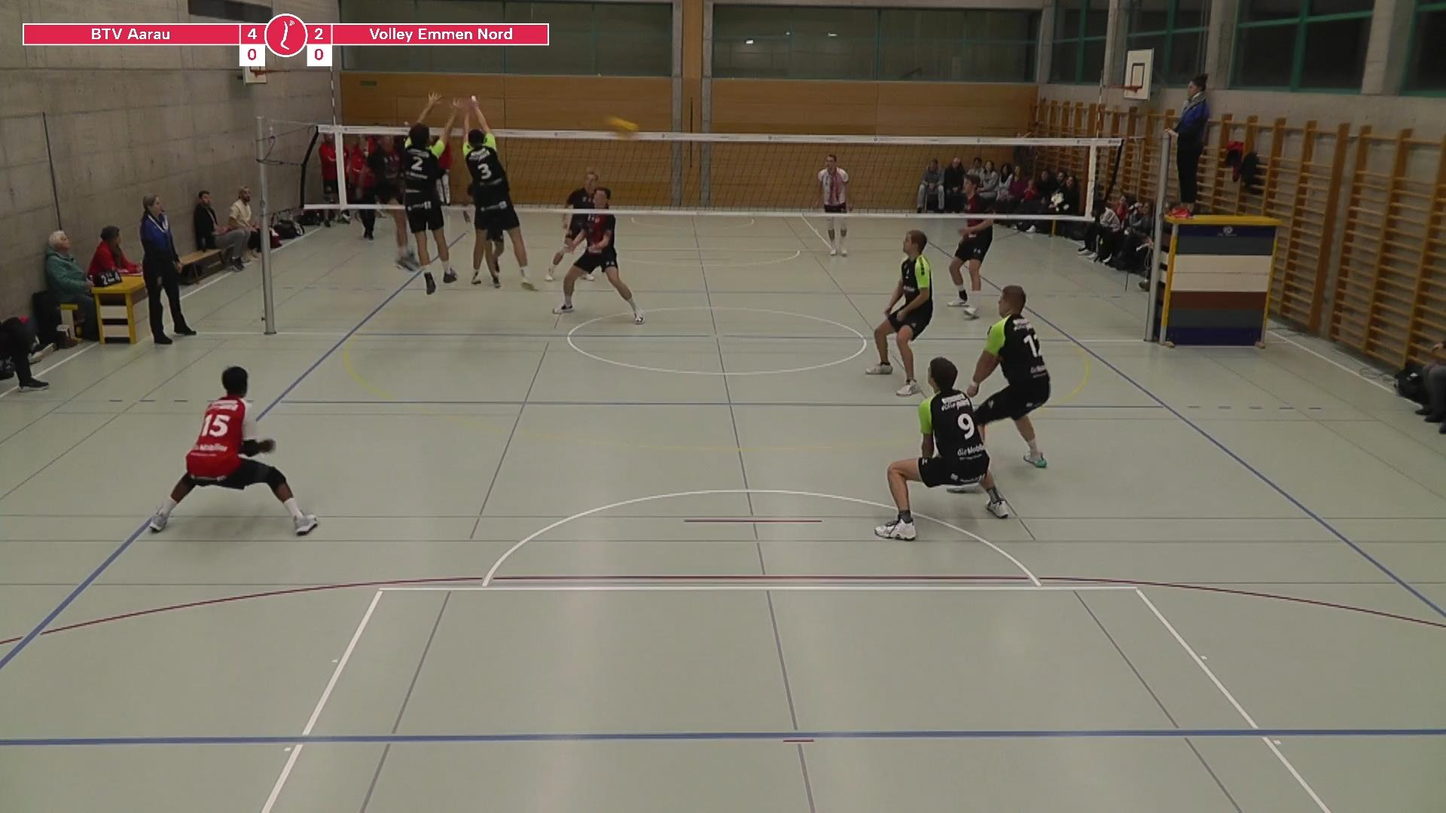Attack: (388, 95, 420, 287)
Block: (443, 91, 537, 288), (398, 90, 468, 278)
Player: (150, 367, 317, 535), (875, 357, 1008, 540), (966, 285, 1049, 467), (866, 230, 932, 396), (553, 212, 644, 324), (948, 174, 993, 318), (545, 213, 586, 281), (471, 224, 504, 288), (818, 154, 849, 213)
ball: (601, 109, 642, 145)
